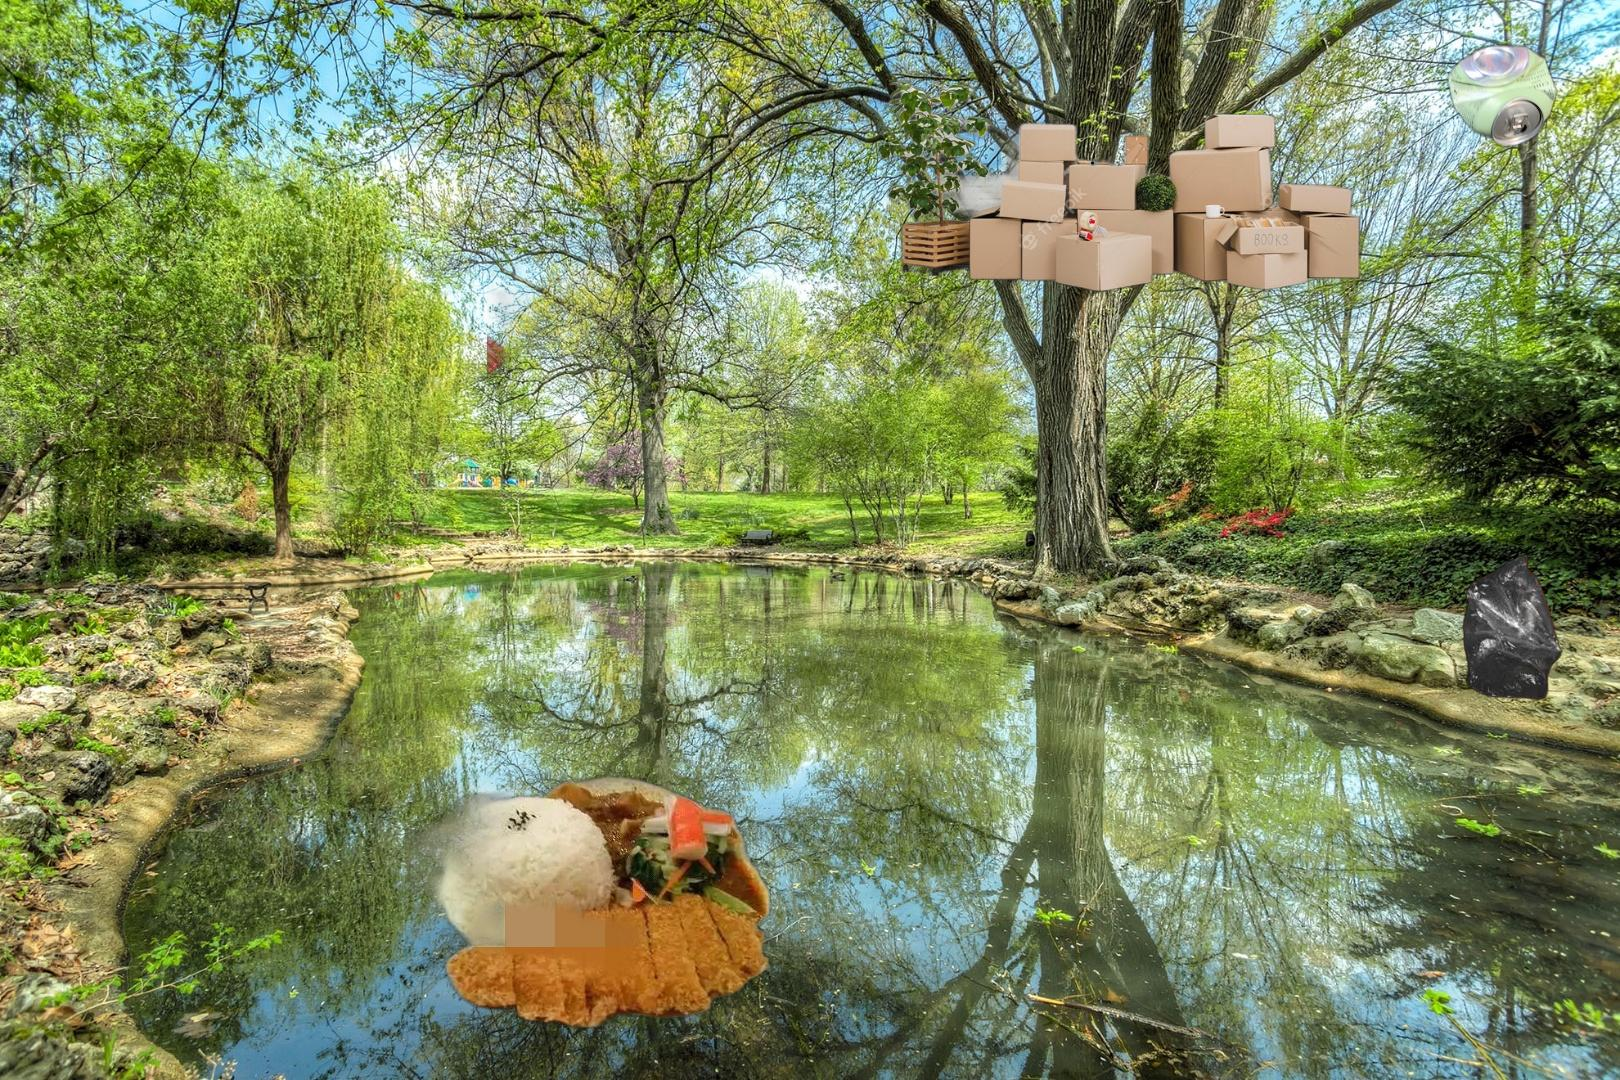biological: (405, 765, 775, 1047)
metal-cans: (1395, 39, 1620, 607)
paper: (487, 49, 999, 433)
plastic-bag: (1462, 552, 1565, 702)
trashbox-cardboard: (871, 80, 1364, 293)
